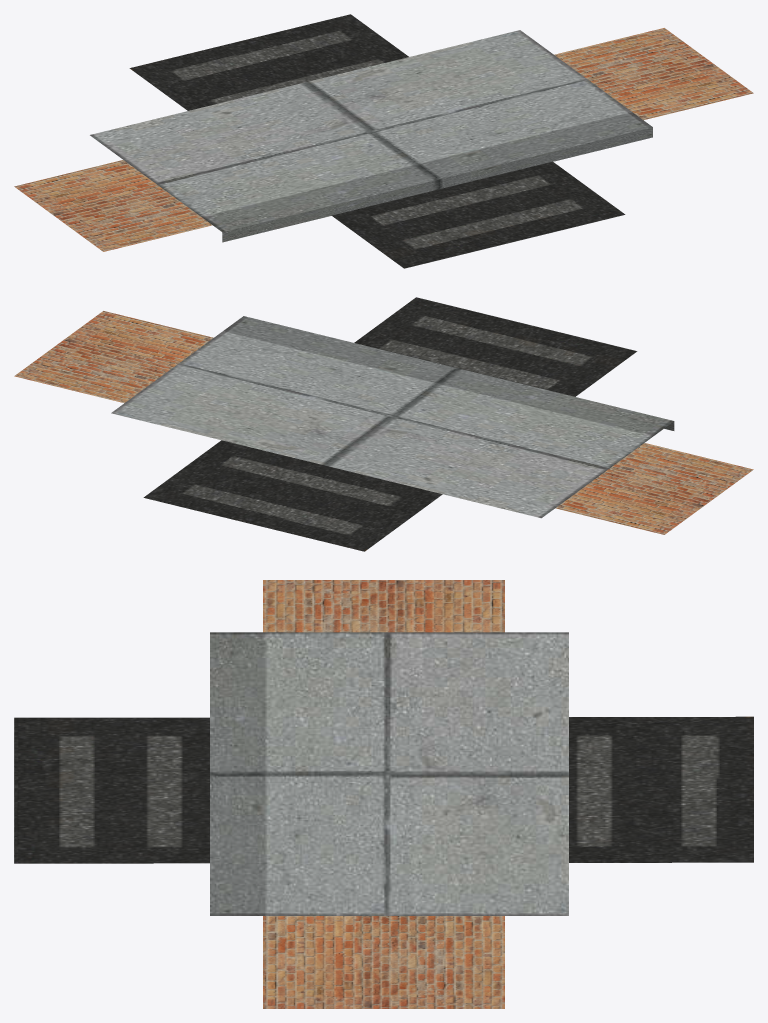
The model's file is BackgroundProps.fbx.
The picture shows the model from 3 angles, top to bottom: view 1: azimuth 30°, elevation 25°; view 2: azimuth 150°, elevation 25°; view 3: azimuth 270°, elevation 25°; orthographic projection. The views are drawn at different scales.
Visible parts, largest first — view 1: Straight Sidewalk, Crosswalk, BrickWall_02; view 2: Straight Sidewalk, Crosswalk, BrickWall_02; view 3: Straight Sidewalk, Crosswalk, BrickWall_02.
Boxes of the visible parts, x1,y1,x2,y2 form: Straight Sidewalk: (90,30,652,242); Crosswalk: (129,14,624,268); BrickWall_02: (14,28,753,251); Straight Sidewalk: (111,316,674,518); Crosswalk: (143,297,636,551); BrickWall_02: (14,311,753,534); Straight Sidewalk: (210,632,568,915); Crosswalk: (14,716,753,863); BrickWall_02: (263,580,504,1008).
Size of the model in its own units: 5877 by 154 by 4286.
